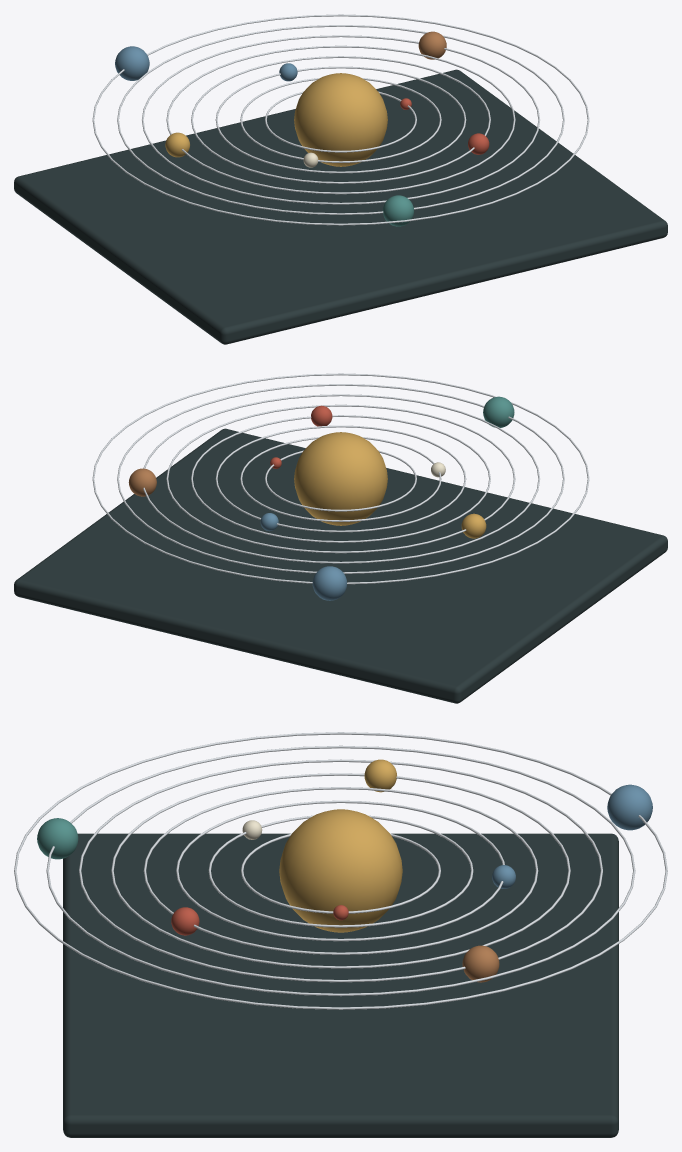
File: solar-system.glb
3 renders of one model, top to bottom at view 1: azimuth 30°, elevation 25°; view 2: azimuth 150°, elevation 25°; view 3: azimuth 270°, elevation 25°, orthographic. The views are drawn at different scales.
Parts seen in each view (by area): view 1: solar-system; view 2: solar-system; view 3: solar-system.
Part boxes in pixels (left/top/right/bottom): solar-system: left=14, top=14, right=667, bottom=344; solar-system: left=14, top=373, right=667, bottom=703; solar-system: left=14, top=732, right=667, bottom=1137.
Size of the model in its own units: 2.2 by 0.65 by 2.12.
